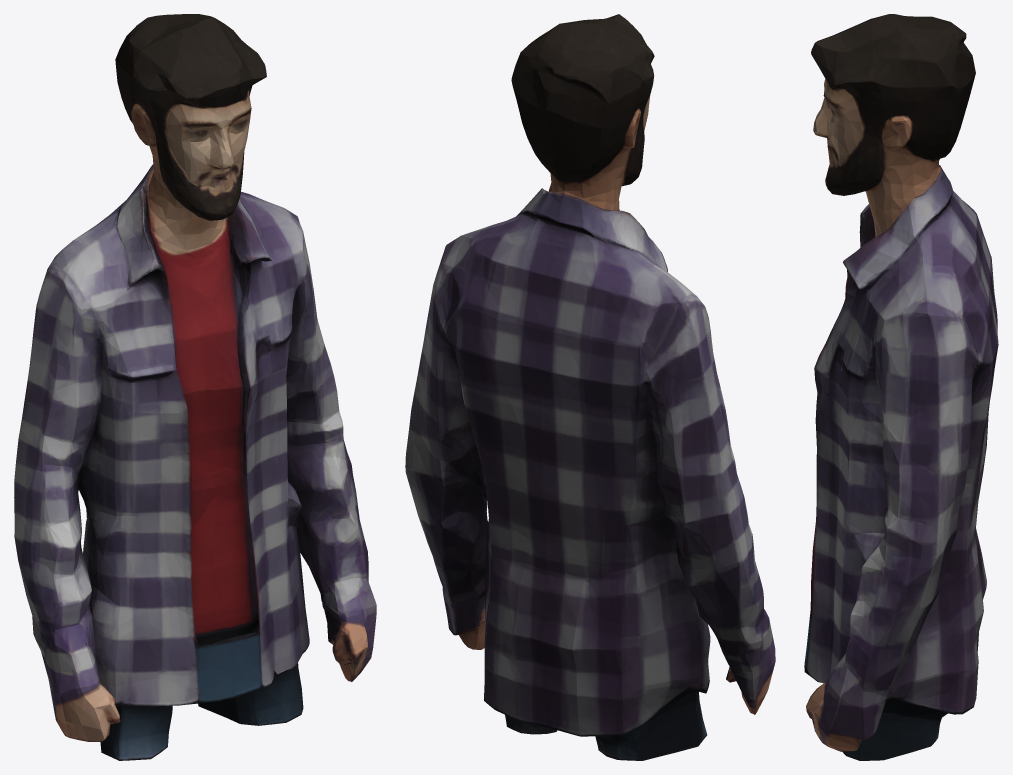
The model's file is model_raw.glb.
3 views of the same model, side by side, from view 1: azimuth 30°, elevation 25°; view 2: azimuth 150°, elevation 25°; view 3: azimuth 270°, elevation 25° (orthographic).
Parts seen in each view (by area): view 1: world; view 2: world; view 3: world.
Part boxes in pixels (box(x1,y1,x2,y2)): world: box(14, 14, 376, 760); world: box(405, 14, 775, 760); world: box(804, 14, 998, 760).
Size of the model in its own units: 0.497 by 0.998 by 0.2512.
1 material, 1 textured.
